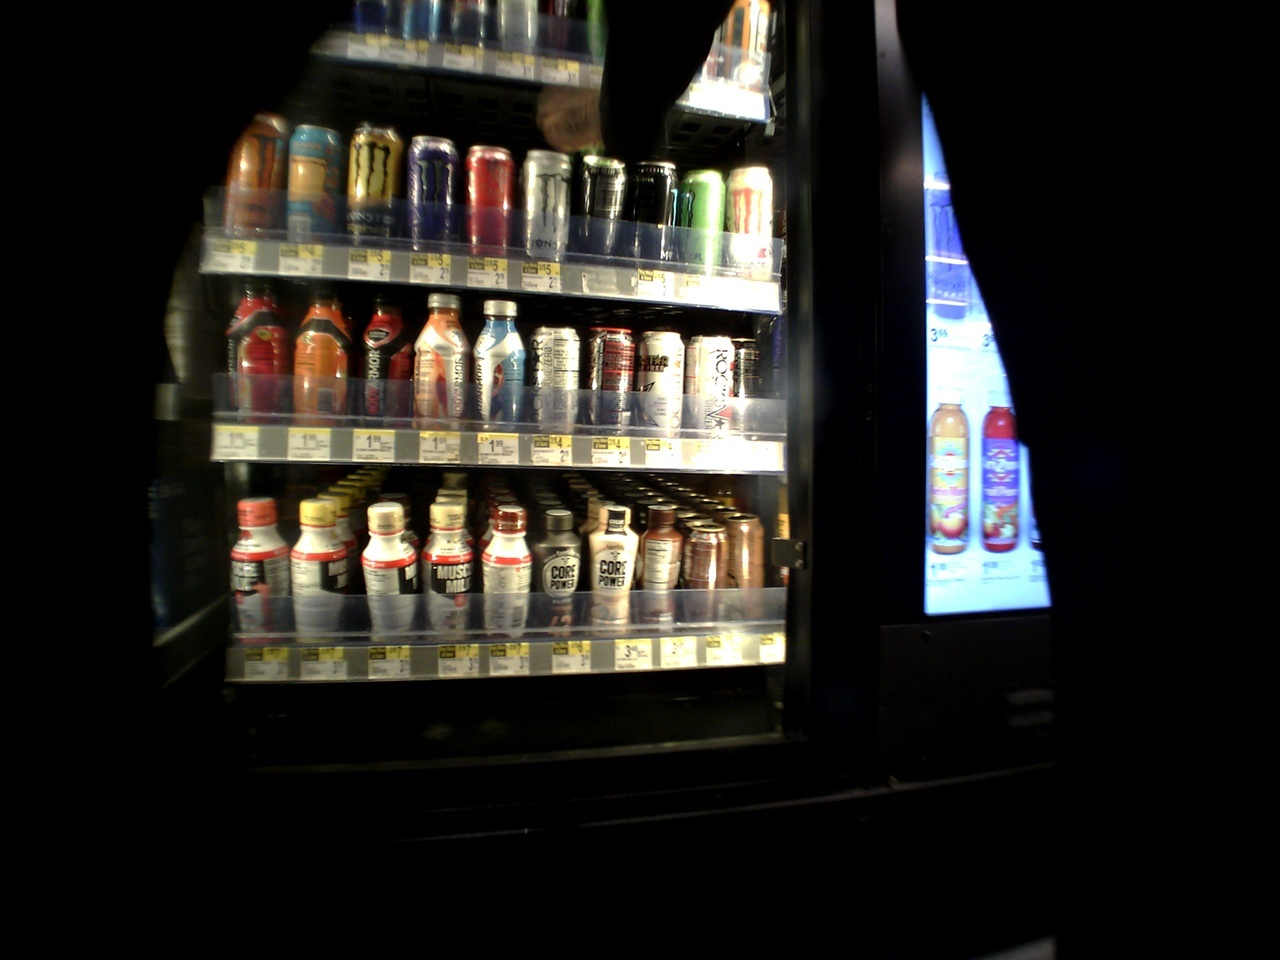shelf: (196, 75, 745, 303), (190, 470, 779, 677), (194, 279, 771, 475)
